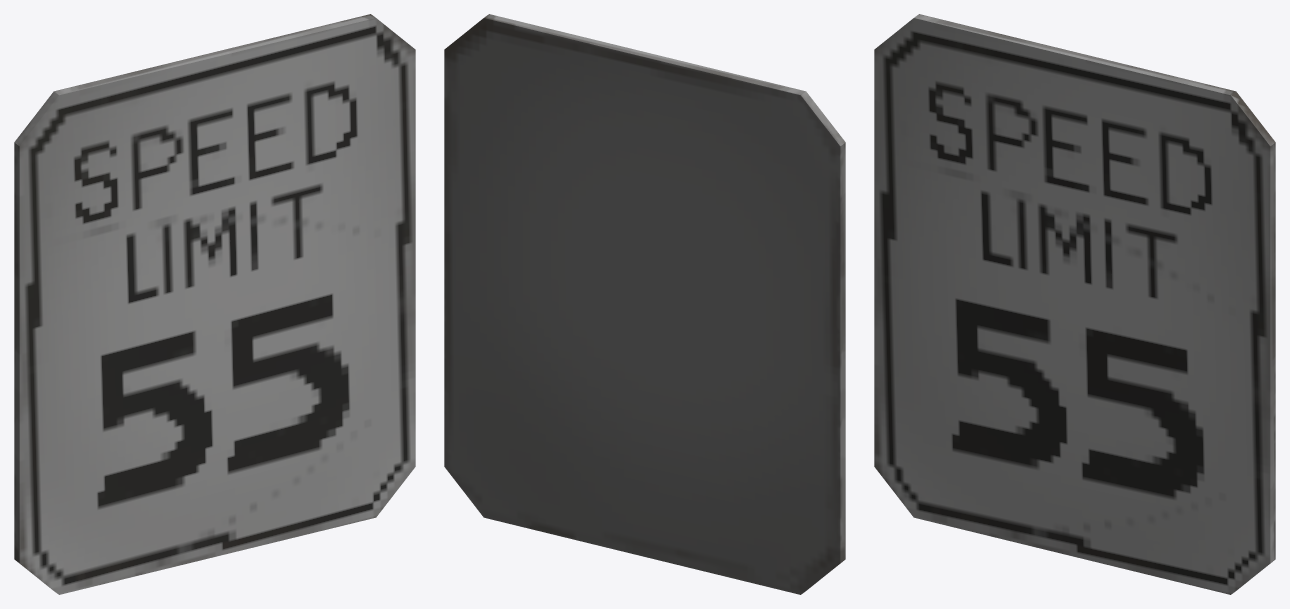
Rendered from speedlimitsign.fbx.
The picture shows the model from 3 angles, left to right: view 1: azimuth 30°, elevation 25°; view 2: azimuth 150°, elevation 25°; view 3: azimuth 330°, elevation 25°; orthographic projection.
Parts seen in each view (by area): view 1: speedlimitsign; view 2: speedlimitsign; view 3: speedlimitsign.
Boxes of the visible parts, bbox=[...] form: speedlimitsign: bbox=[14, 14, 415, 594]; speedlimitsign: bbox=[444, 14, 845, 594]; speedlimitsign: bbox=[874, 14, 1275, 594].
Bounding box in the file's own units: 0.8556 × 1.03 × 0.0202.
